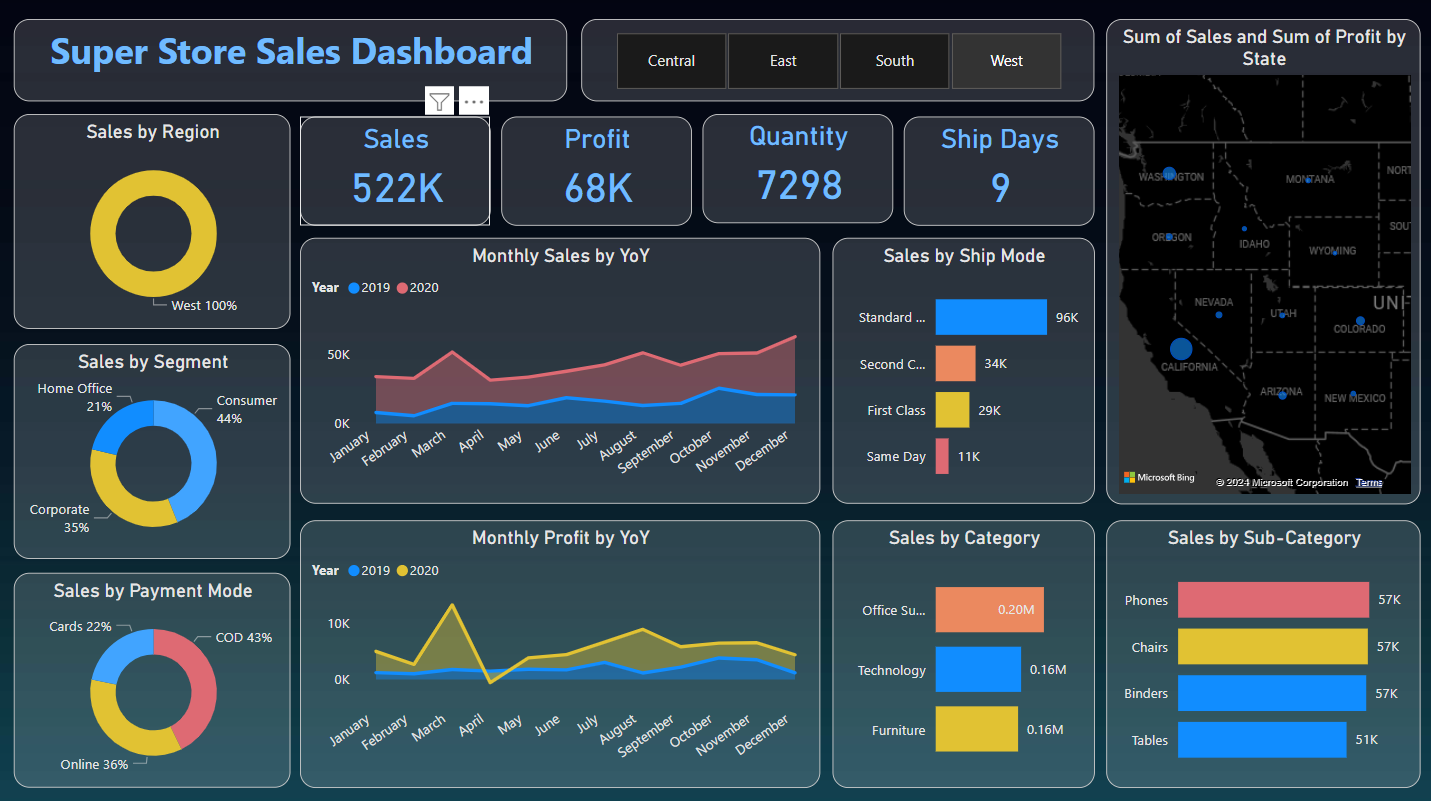

What the dashboard file says about the page in this screenshot:
{"tool":"powerbi","page":{"name":"Page 1","canvas":[1280,720],"ordinal":0},"visuals":[{"type":"clusteredBarChart","title":"Sales by Category","fields":{"Category":["SuperStore_Sales_Dataset.Category"],"Y":["Sum(SuperStore_Sales_Dataset.Sales)"]},"box":[743.3,465.9,234.1,238.9],"z":0},{"type":"clusteredBarChart","title":"Sales by Sub-Category","fields":{"Category":["SuperStore_Sales_Dataset.Sub-Category"],"Y":["Sum(SuperStore_Sales_Dataset.Sales)"]},"box":[988.2,465.9,281,238.9],"z":1000},{"type":"clusteredBarChart","title":"Sales by Ship Mode","fields":{"Category":["SuperStore_Sales_Dataset.Ship Mode"],"Y":["Sum(SuperStore_Sales_Dataset.Sales)"]},"box":[743.3,213.7,234.1,237.7],"z":2000},{"type":"stackedAreaChart","title":"Monthly Sales by YoY","fields":{"Category":["SuperStore_Sales_Dataset.Order Date.Variation.Date Hierarchy.Month"],"Y":["Sum(SuperStore_Sales_Dataset.Sales)"],"Series":["SuperStore_Sales_Dataset.Order Date.Variation.Date Hierarchy.Year"]},"box":[267.8,213.7,464.7,237.7],"z":3000},{"type":"stackedAreaChart","title":"Monthly Profit by YoY","fields":{"Category":["SuperStore_Sales_Dataset.Order Date.Variation.Date Hierarchy.Month"],"Series":["SuperStore_Sales_Dataset.Order Date.Variation.Date Hierarchy.Year"],"Y":["Sum(SuperStore_Sales_Dataset.Profit)"]},"box":[267.8,465.9,464.7,238.9],"z":4000},{"type":"map","fields":{"Category":["SuperStore_Sales_Dataset.State"],"Size":["Sum(SuperStore_Sales_Dataset.Sales)"]},"box":[988.2,18,281,433.5],"z":5000},{"type":"donutChart","title":"Sales by Segment","fields":{"Category":["SuperStore_Sales_Dataset.Segment"],"Y":["Sum(SuperStore_Sales_Dataset.Sales)"]},"box":[12,308.6,247.4,192.1],"z":6000},{"type":"donutChart","title":"Sales by Payment Mode","fields":{"Category":["SuperStore_Sales_Dataset.Payment Mode"],"Y":["Sum(SuperStore_Sales_Dataset.Sales)"]},"box":[12,512.7,247.4,192.1],"z":7000},{"type":"slicer","fields":{"Values":["SuperStore_Sales_Dataset.Region"]},"box":[518.7,18,458.7,73.2],"z":8000},{"type":"textbox","box":[12,18,494.7,73.2],"z":9000},{"type":"card","title":"Sales","fields":{"Values":["Sum(SuperStore_Sales_Dataset.Sales)"]},"box":[267.8,104.5,170.5,97.3],"z":10000},{"type":"card","title":"Profit","fields":{"Values":["Sum(SuperStore_Sales_Dataset.Profit)"]},"box":[447.9,104.5,170.5,97.3],"z":11000},{"type":"card","title":"Quantity","fields":{"Values":["Sum(SuperStore_Sales_Dataset.Quantity)"]},"box":[628,103.3,170.5,97.3],"z":12000},{"type":"card","title":"Ship Days","fields":{"Values":["Avg(SuperStore_Sales_Dataset.Shipment Days)"]},"box":[806.9,104.5,170.5,97.3],"z":13000},{"type":"donutChart","title":"Sales by Region","fields":{"Y":["Sum(SuperStore_Sales_Dataset.Sales)"],"Category":["SuperStore_Sales_Dataset.Region"]},"box":[12,103.3,247.4,192.1],"z":14000}]}

Visuals, with their boxes in screenshot pixels (x1, y1, x2, y2), scaled from the page's 1280x720 canvas onto the 1431x801 screenshot:
"Sales by Category" clusteredBarChart: 831, 518, 1093, 784
"Sales by Sub-Category" clusteredBarChart: 1105, 518, 1419, 784
"Sales by Ship Mode" clusteredBarChart: 831, 238, 1093, 502
"Monthly Sales by YoY" stackedAreaChart: 299, 238, 819, 502
"Monthly Profit by YoY" stackedAreaChart: 299, 518, 819, 784
map - SuperStore_Sales_Dataset.State x Sum(SuperStore_Sales_Dataset.Sales): 1105, 20, 1419, 502
"Sales by Segment" donutChart: 13, 343, 290, 557
"Sales by Payment Mode" donutChart: 13, 570, 290, 784
slicer - SuperStore_Sales_Dataset.Region: 580, 20, 1093, 101
textbox: 13, 20, 566, 101
"Sales" card: 299, 116, 490, 225
"Profit" card: 501, 116, 691, 225
"Quantity" card: 702, 115, 893, 223
"Ship Days" card: 902, 116, 1093, 225
"Sales by Region" donutChart: 13, 115, 290, 329
